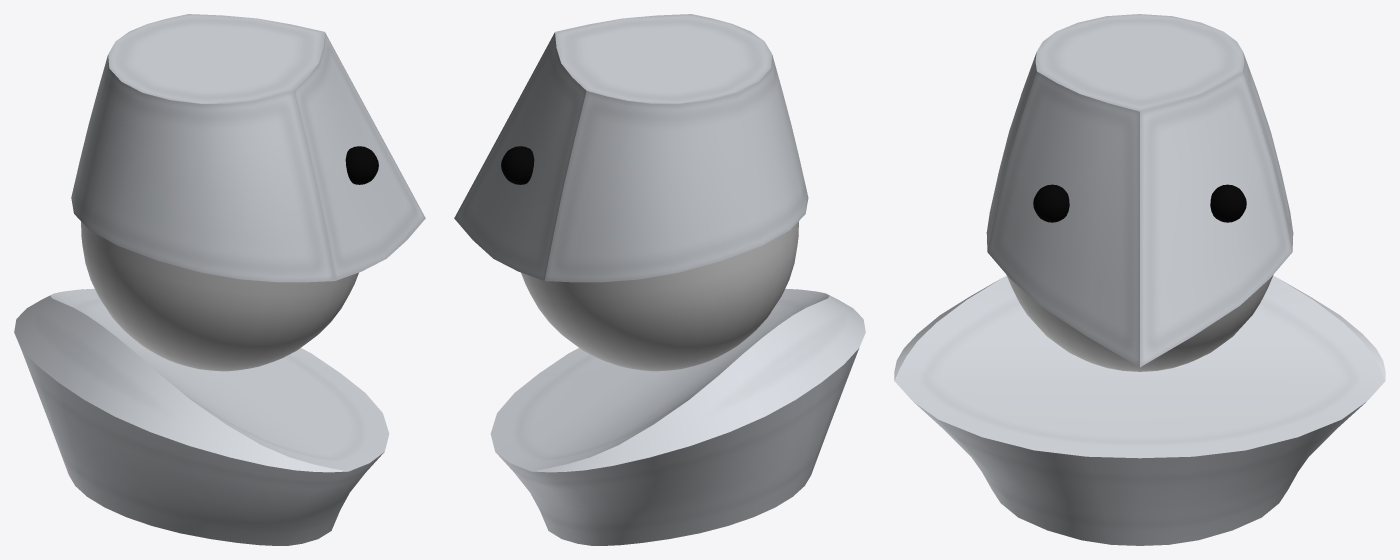
The model's file is PseudoBot03.dae.
The picture shows the model from 3 angles, left to right: view 1: azimuth 30°, elevation 25°; view 2: azimuth 150°, elevation 25°; view 3: azimuth 270°, elevation 25°; orthographic projection.
Parts seen in each view (by area): view 1: Head, Shoulders, Jaw, RightEye; view 2: Head, Shoulders, Jaw, LeftEye; view 3: Shoulders, Head, Jaw, LeftEye, RightEye.
Part boxes in pixels (bbox=[...]): Head: bbox=[71, 14, 425, 282]; Shoulders: bbox=[14, 288, 389, 545]; Jaw: bbox=[81, 221, 358, 371]; RightEye: bbox=[345, 146, 378, 184]; Head: bbox=[454, 14, 808, 282]; Shoulders: bbox=[490, 288, 865, 545]; Jaw: bbox=[521, 221, 798, 371]; LeftEye: bbox=[501, 146, 534, 184]; Shoulders: bbox=[894, 276, 1385, 545]; Head: bbox=[986, 14, 1293, 367]; Jaw: bbox=[1006, 275, 1273, 371]; LeftEye: bbox=[1210, 184, 1246, 222]; RightEye: bbox=[1033, 184, 1069, 222].
Bounding box in the file's own units: 109 × 129 × 127.
